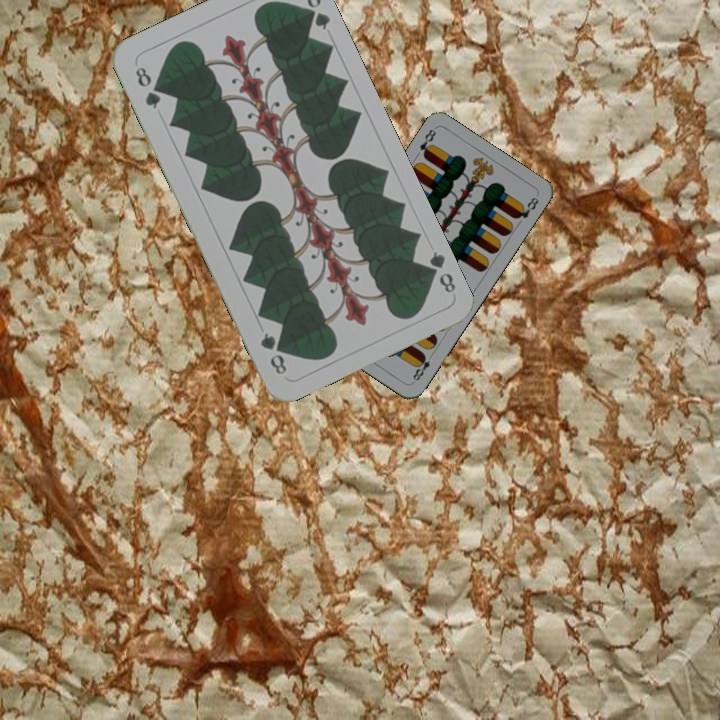E8: (409, 350, 436, 385), (415, 125, 439, 161)
G8: (420, 247, 459, 296), (131, 62, 164, 112)
